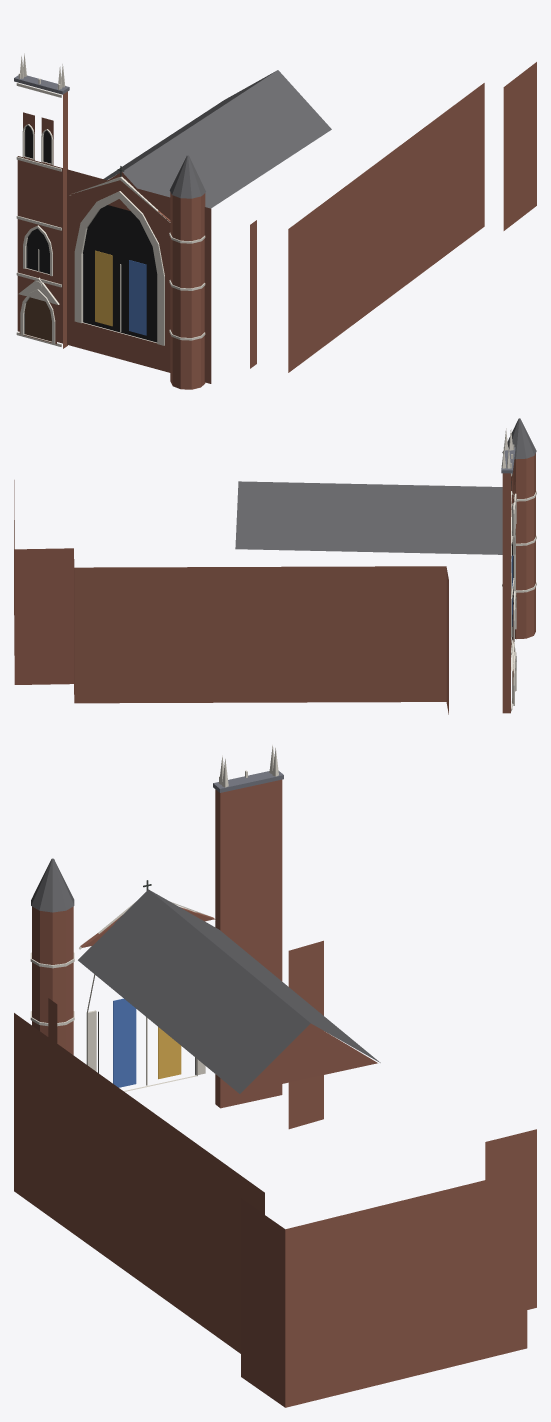
The picture shows the model from 3 angles, top to bottom: view 1: azimuth 30°, elevation 25°; view 2: azimuth 150°, elevation 25°; view 3: azimuth 270°, elevation 25°; orthographic projection. The views are drawn at different scales.
Bounding box in the file's own units: 46.62 × 23.85 × 32.38.
